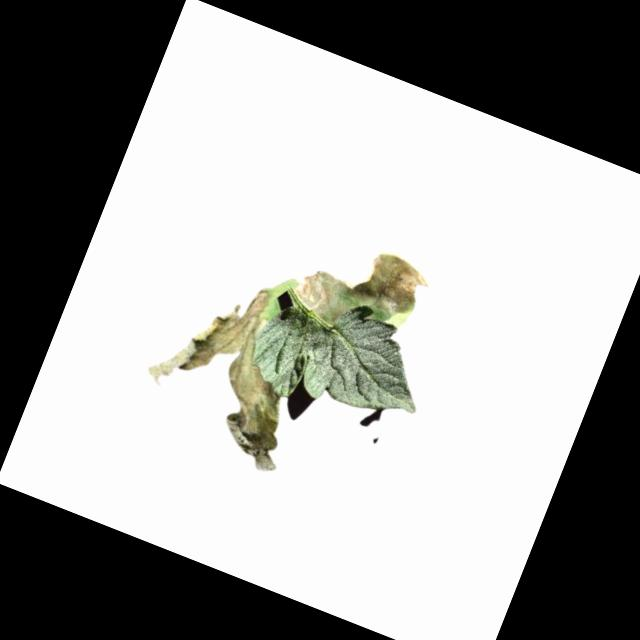Late_blight: (126, 260, 334, 477), (288, 222, 437, 352)
healthy: (242, 273, 447, 445)
